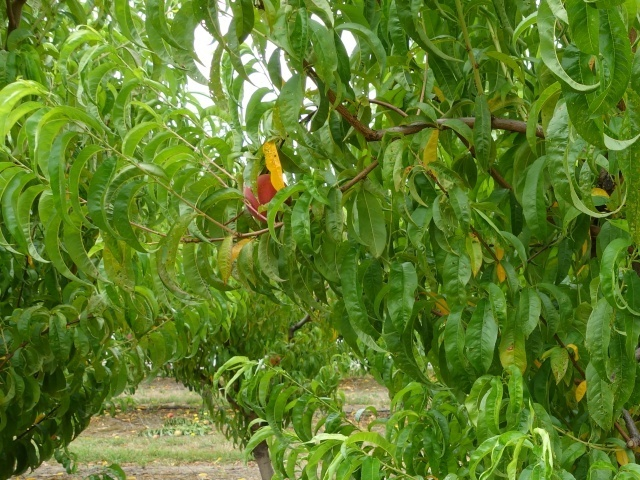peach: (240, 171, 296, 223)
